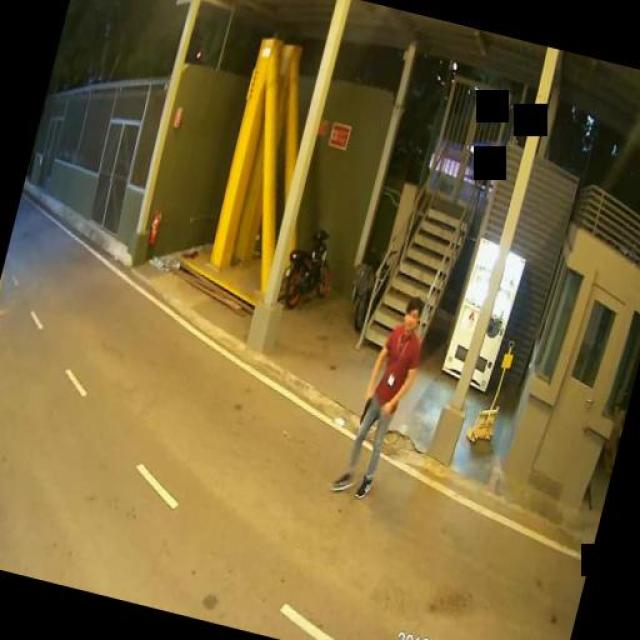gun: (358, 388, 373, 424)
